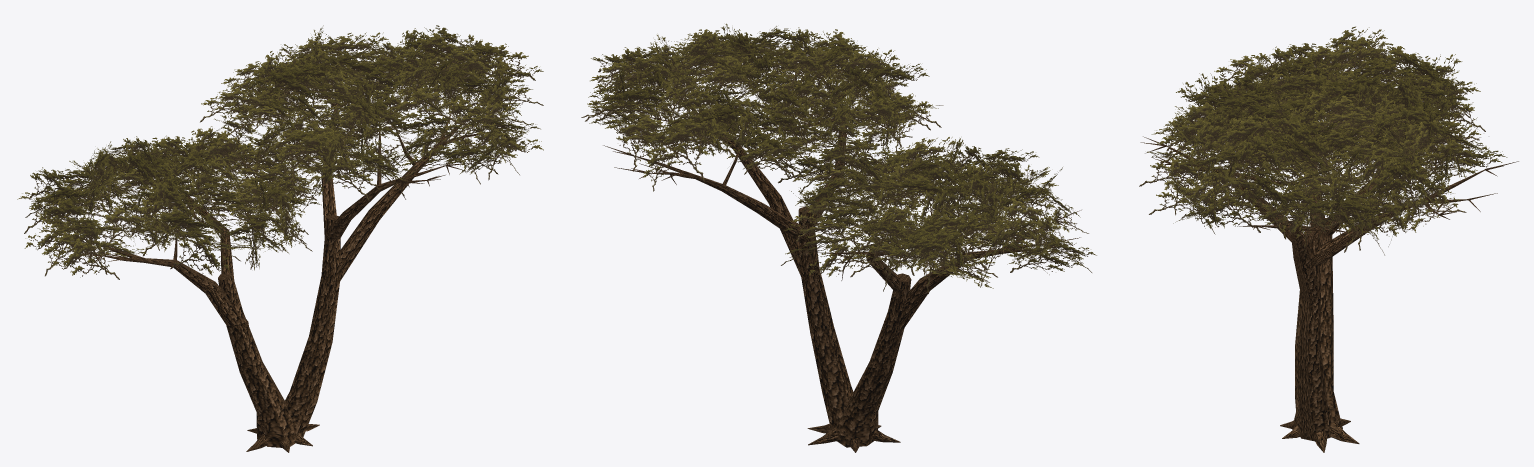
The model's file is Acacia_04_Tronco_Duplo.glb.
3 renders of one model, left to right at view 1: azimuth 30°, elevation 25°; view 2: azimuth 150°, elevation 25°; view 3: azimuth 270°, elevation 25°, orthographic. The views are drawn at different scales.
Visible parts, largest first — view 1: Folhagem fina, Tronco e raizes, Ramos principais, Ramos secundarios; view 2: Folhagem fina, Tronco e raizes, Ramos principais, Ramos secundarios, Galharia terminal; view 3: Folhagem fina, Tronco e raizes, Ramos principais, Ramos secundarios, Galharia terminal.
Part boxes in pixels (x1,y1,x2,y2): Folhagem fina: (17, 25, 543, 279); Tronco e raizes: (218, 215, 340, 452); Ramos principais: (130, 103, 446, 334); Ramos secundarios: (86, 80, 484, 262); Folhagem fina: (581, 23, 1096, 293); Tronco e raizes: (798, 207, 911, 452); Ramos principais: (683, 121, 1013, 330); Ramos secundarios: (634, 77, 1052, 255); Galharia terminal: (603, 62, 1081, 262); Folhagem fina: (1139, 26, 1507, 255); Tronco e raizes: (1280, 218, 1359, 452); Ramos principais: (1210, 120, 1435, 304); Ramos secundarios: (1166, 99, 1484, 231); Galharia terminal: (1140, 62, 1518, 232).
Bounding box in the file's own units: 11.09 × 7.66 × 6.89.
2 materials, 2 textured.
